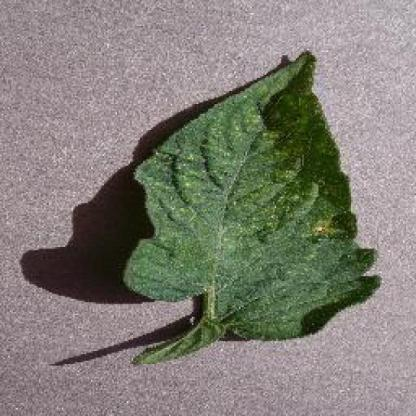Tomato_Spider_Mites: (125, 51, 381, 340)
